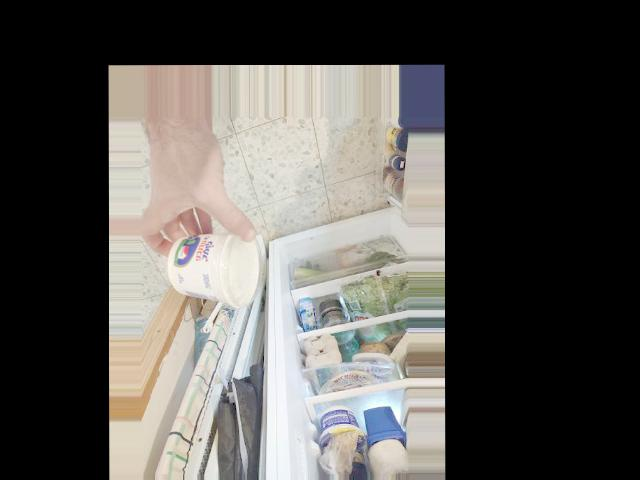cotage: (168, 233, 263, 304)
